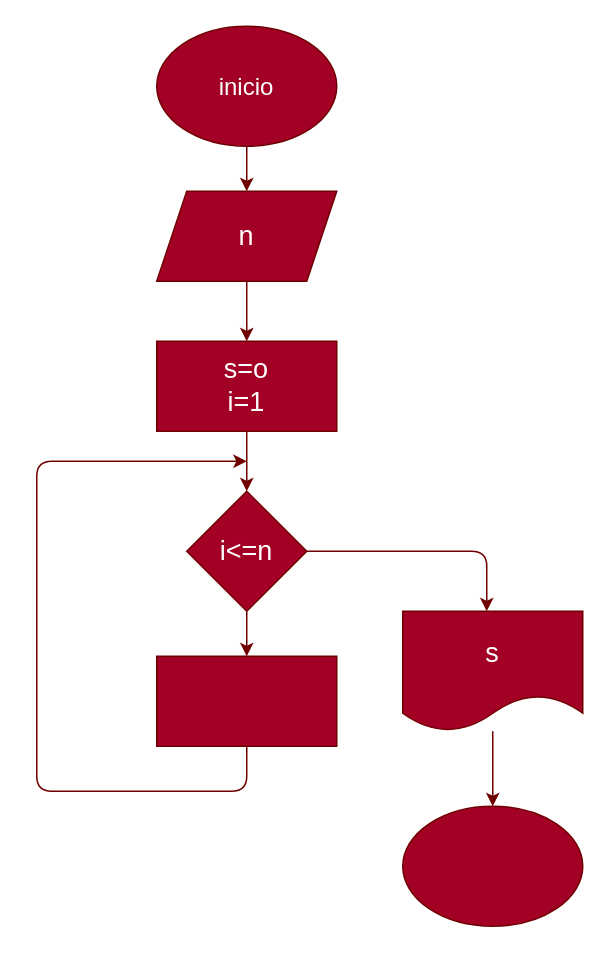
Some shapes in this 609 by 953 pixel diagram are drawn without their labels. The shapes that lost their labels are listed below. From the top down, each one's centre as x and y in pixels, then its label:
the point at 246,700: s=s+i i=i+1
the point at 492,865: fin
